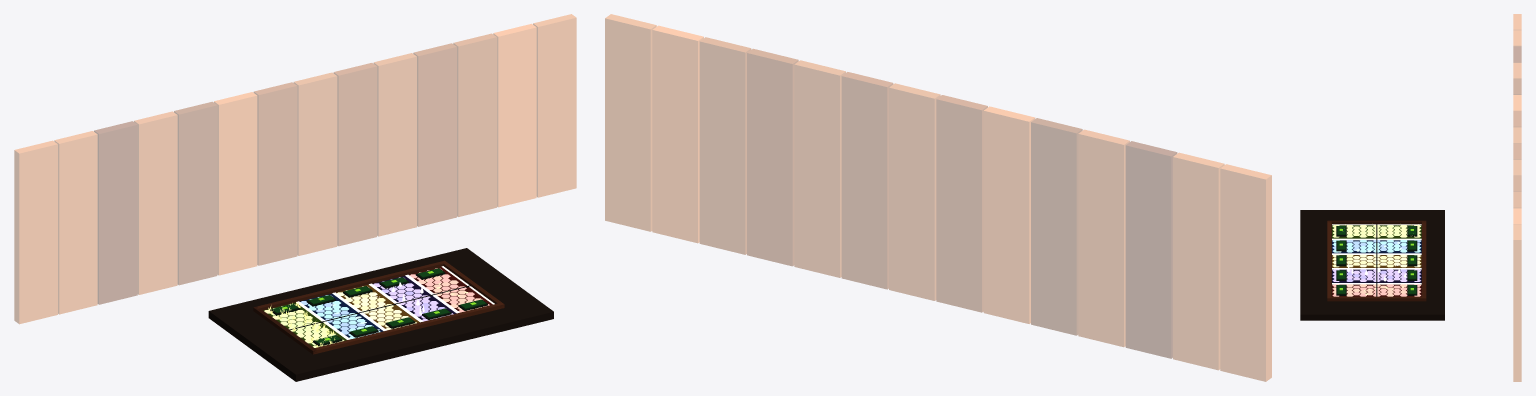
File: arena.glb
3 renders of one model, left to right at view 1: azimuth 30°, elevation 25°; view 2: azimuth 150°, elevation 25°; view 3: azimuth 270°, elevation 25°, orthographic. The views are drawn at different scales.
Visible parts, largest first — view 1: parede, mesa, moldura_f, moldura_t, piso_2, piso_4, piso_1, piso_3, piso_0, base_4, base_2, base_1 (+3 smaller); view 2: parede; view 3: mesa, parede, piso_2, piso_4, piso_0, piso_3, piso_1, moldura_d, base_1, base_2, moldura_e, base_0 (+7 smaller).
Part boxes in pixels (<box>): parede: <box>14,14,576,324</box>; mesa: <box>208,248,553,381</box>; moldura_f: <box>314,302,503,353</box>; moldura_t: <box>257,261,443,310</box>; piso_2: <box>337,286,416,330</box>; piso_4: <box>410,268,489,312</box>; piso_1: <box>300,295,380,338</box>; piso_3: <box>373,277,453,321</box>; piso_0: <box>264,304,344,347</box>; base_4: <box>409,267,492,310</box>; base_2: <box>336,284,419,328</box>; base_1: <box>300,293,383,337</box>; parede: <box>605,14,1271,381</box>; mesa: <box>1300,210,1444,320</box>; parede: <box>1513,14,1521,381</box>; piso_2: <box>1332,254,1420,267</box>; piso_4: <box>1332,284,1420,296</box>; piso_0: <box>1332,225,1420,237</box>; piso_3: <box>1332,269,1420,281</box>; piso_1: <box>1332,240,1420,252</box>; moldura_d: <box>1327,296,1426,301</box>; base_1: <box>1332,240,1421,253</box>; base_2: <box>1332,255,1421,267</box>; moldura_e: <box>1327,220,1426,224</box>; base_0: <box>1332,225,1421,238</box>.
Size of the model in its own units: 32.12 by 9.4 by 13.3.
